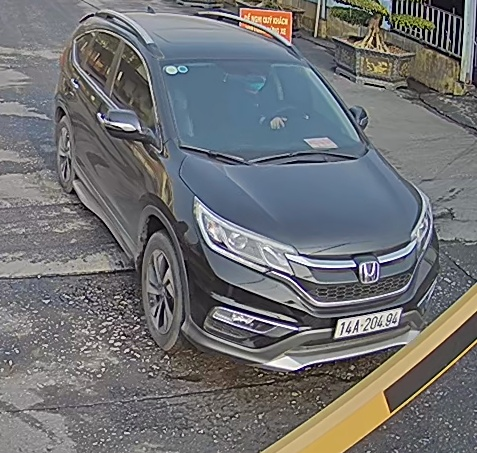vehicle plate: (331, 307, 403, 341)
